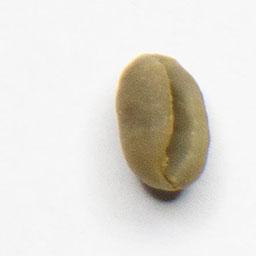peaberry: (112, 47, 213, 197)
